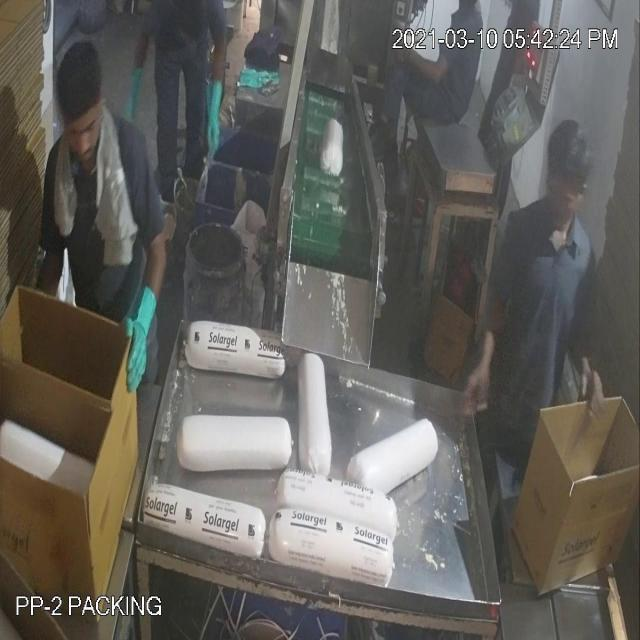Gloves: (38, 60, 590, 390)
